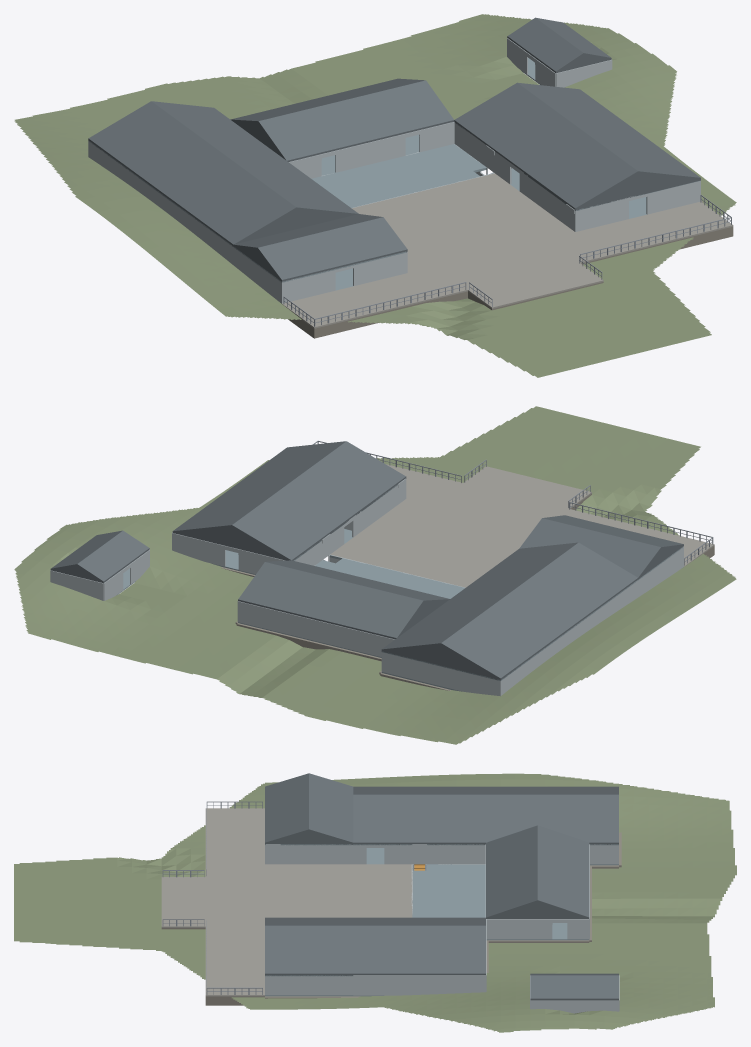
File: courts-and-docks.glb
3 renders of one model, top to bottom at view 1: azimuth 30°, elevation 25°; view 2: azimuth 150°, elevation 25°; view 3: azimuth 270°, elevation 25°, orthographic. The views are drawn at different scales.
Parts seen in each view (by area): view 1: Saved editor circulation terrain WLD-08, WLD-08 compound service forecourt structural surface region0, WLD-08 raised courtyard terrace structural surface region0, dormitory-and-mess roof west, radio-records roof south, laboratory roof west, generator-building roof west, Entrance rebuild Research courtyard structural deck region0, stores roof south, dormitory-and-mess roof east, laboratory roof east, generator-building roof east (+21 smaller); view 2: Saved editor circulation terrain WLD-08, WLD-08 raised courtyard terrace structural surface region0, dormitory-and-mess roof west, radio-records roof north, WLD-08 compound service forecourt structural surface region0, generator-building roof west, laboratory roof west, dormitory-and-mess roof east, stores roof north, generator-building roof east, laboratory roof east, WLD-08 arrival apron structural surface region0 (+18 smaller); view 3: Saved editor circulation terrain WLD-08, WLD-08 compound service forecourt structural surface region0, dormitory-and-mess roof east, WLD-08 raised courtyard terrace structural surface region0, laboratory roof east, generator-building roof east, radio-records roof north, radio-records roof south, Entrance rebuild Research courtyard structural deck region0, Wall dorm E, stores roof north, stores roof south (+15 smaller).
Boxes of the visible parts, <box> form: Saved editor circulation terrain WLD-08: <box>14,14,736,377</box>; WLD-08 compound service forecourt structural surface region0: <box>282,201,733,328</box>; WLD-08 raised courtyard terrace structural surface region0: <box>352,173,574,272</box>; dormitory-and-mess roof west: <box>454,83,637,209</box>; radio-records roof south: <box>258,80,454,161</box>; laboratory roof west: <box>161,154,296,245</box>; generator-building roof west: <box>88,101,223,192</box>; Entrance rebuild Research courtyard structural deck region0: <box>311,144,493,207</box>; stores roof south: <box>257,217,407,281</box>; dormitory-and-mess roof east: <box>517,82,700,178</box>; laboratory roof east: <box>224,154,358,214</box>; generator-building roof east: <box>152,101,286,160</box>; Saved editor circulation terrain WLD-08: <box>14,406,736,744</box>; WLD-08 raised courtyard terrace structural surface region0: <box>330,499,532,587</box>; dormitory-and-mess roof west: <box>232,441,406,560</box>; radio-records roof north: <box>238,562,423,639</box>; WLD-08 compound service forecourt structural surface region0: <box>385,464,714,566</box>; generator-building roof west: <box>441,593,569,679</box>; laboratory roof west: <box>510,542,638,629</box>; dormitory-and-mess roof east: <box>172,441,345,532</box>; stores roof north: <box>519,518,660,578</box>; generator-building roof east: <box>381,593,508,650</box>; laboratory roof east: <box>451,542,577,598</box>; WLD-08 arrival apron structural surface region0: <box>463,466,591,508</box>; Saved editor circulation terrain WLD-08: <box>14,773,736,1032</box>; WLD-08 compound service forecourt structural surface region0: <box>205,808,264,996</box>; dormitory-and-mess roof east: <box>265,925,485,974</box>; WLD-08 raised courtyard terrace structural surface region0: <box>265,864,412,917</box>; laboratory roof east: <box>353,794,485,844</box>; generator-building roof east: <box>486,794,618,844</box>; radio-records roof north: <box>537,825,589,918</box>; radio-records roof south: <box>486,825,537,918</box>; Entrance rebuild Research courtyard structural deck region0: <box>412,864,485,917</box>; Wall dorm E: <box>353,975,485,995</box>; stores roof north: <box>309,773,353,843</box>; stores roof south: <box>265,773,308,843</box>.
Size of the model in its own units: 83 by 9.24 by 98.
42 materials, 20 textured.
